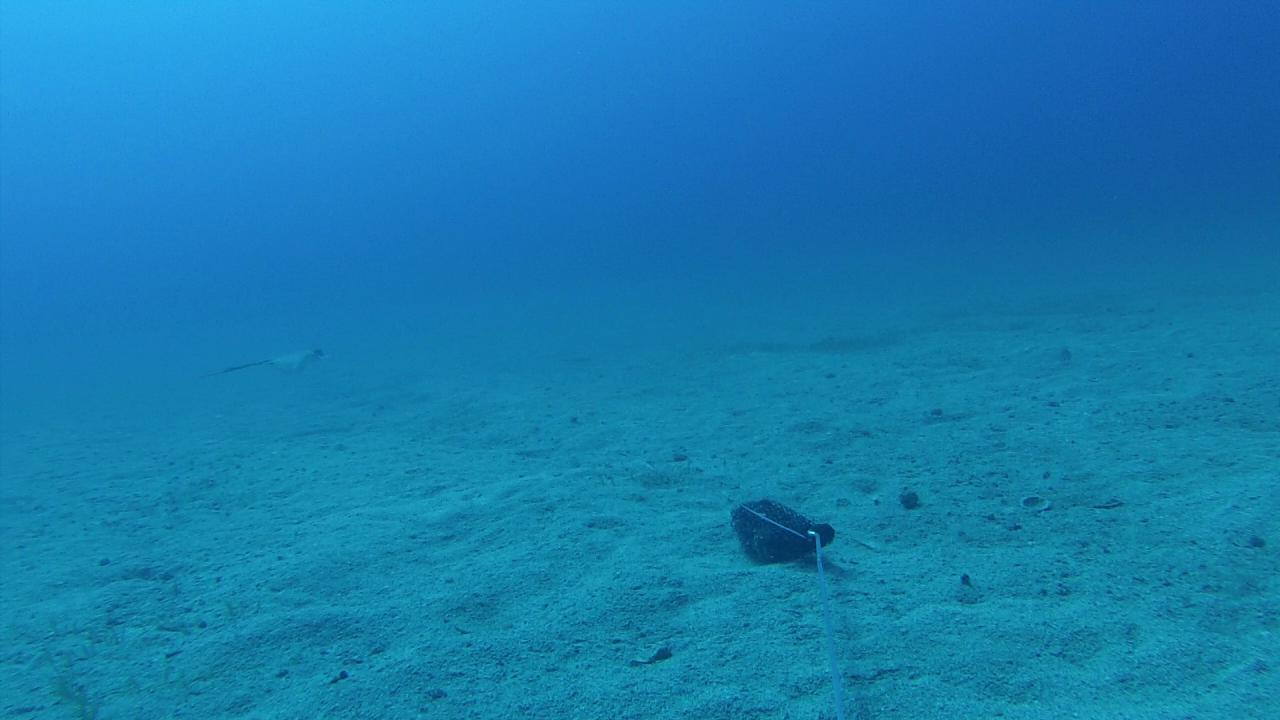dasyatis: (198, 344, 332, 376)
